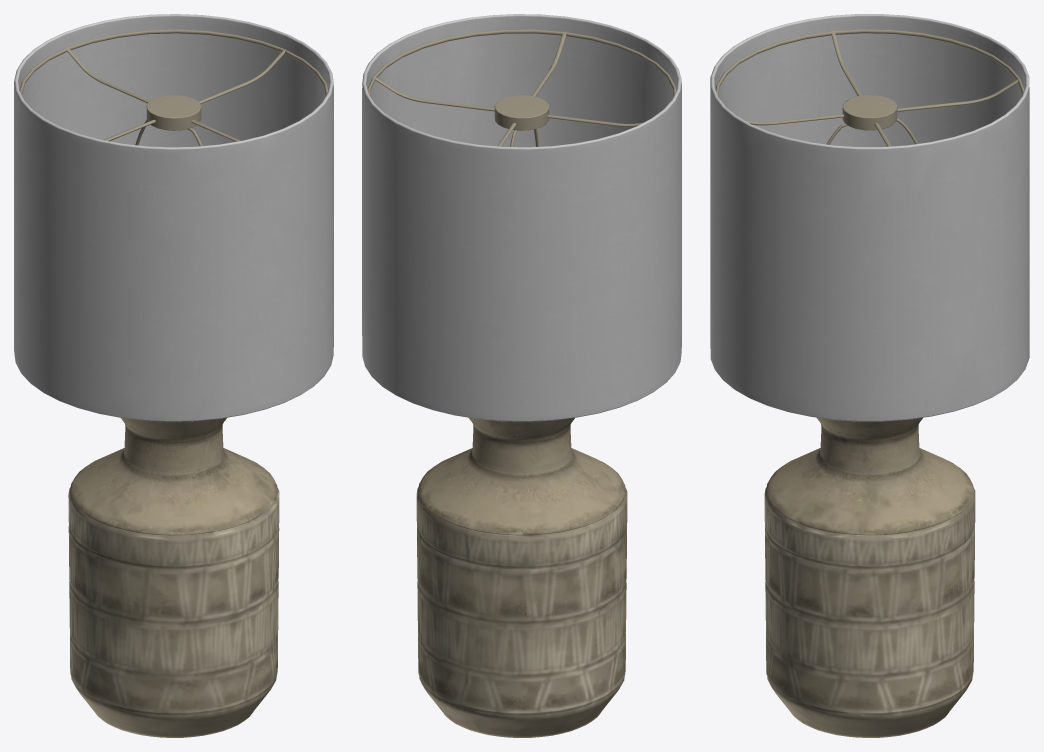
The model's file is B07QJL73XD.glb.
The picture shows the model from 3 angles, left to right: view 1: azimuth 30°, elevation 25°; view 2: azimuth 150°, elevation 25°; view 3: azimuth 270°, elevation 25°; orthographic projection.
Visible parts, largest first — view 1: RootNode; view 2: RootNode; view 3: RootNode.
Part boxes in pixels (x1,y1,x2,y2): RootNode: (14,14,333,737); RootNode: (362,14,681,737); RootNode: (710,14,1029,737).
Size of the model in its own units: 0.2109 by 0.4546 by 0.2109.
1 material, 1 textured.
